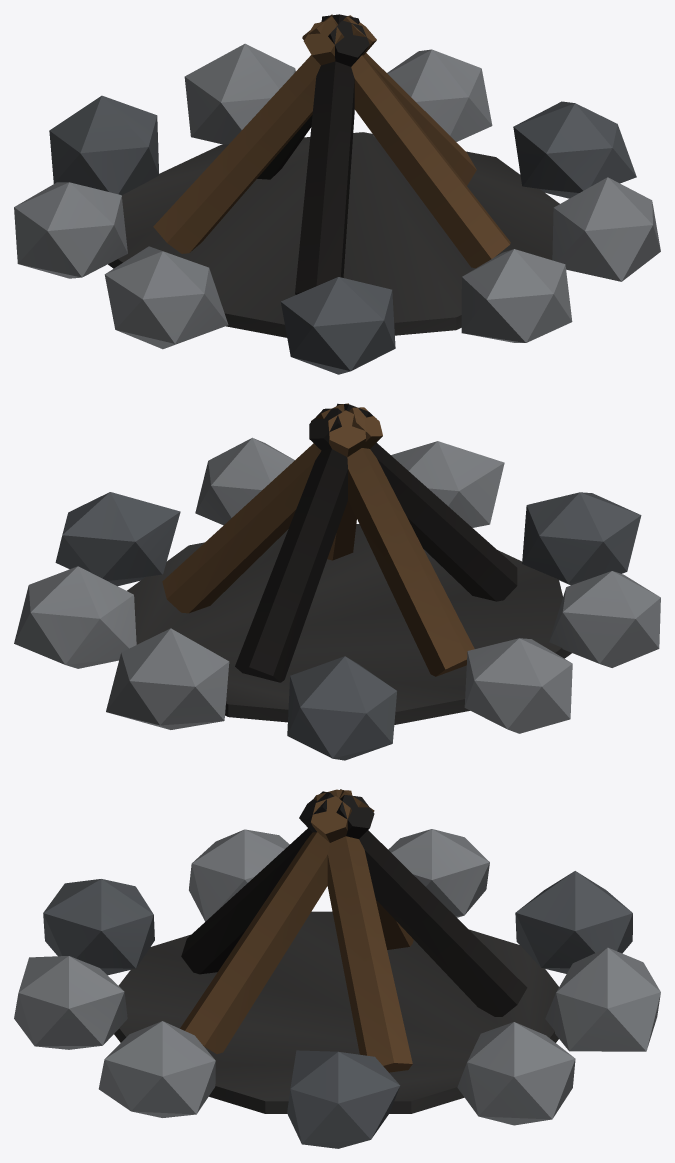
Rendered from Campfire.fbx.
3 views of the same model, one above another, from view 1: azimuth 30°, elevation 25°; view 2: azimuth 150°, elevation 25°; view 3: azimuth 270°, elevation 25° (orthographic).
Visible parts, largest first — view 1: Campfire; view 2: Campfire; view 3: Campfire.
Boxes of the visible parts, x1=… form: Campfire: x1=14, y1=14, x2=660, y2=374; Campfire: x1=14, y1=403, x2=660, y2=760; Campfire: x1=14, y1=789, x2=660, y2=1148.
Size of the model in its own units: 1.36 by 0.5712 by 1.37.
